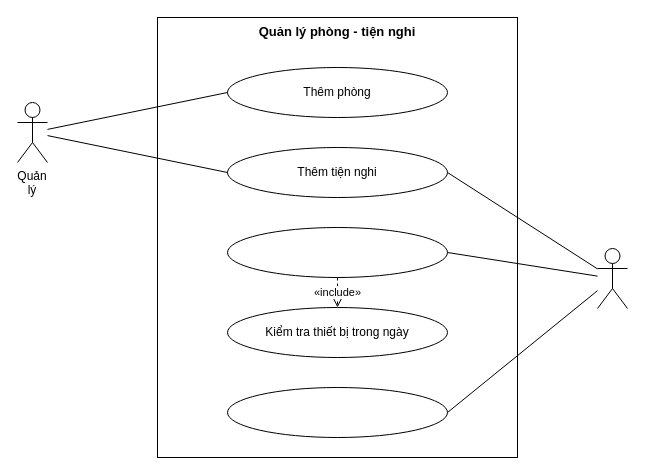
Some shapes in this 646 by 475 pixel diagram are drawn without their labels. Each missing label, with the centre of its shape:
"Lập phiếu lắp đặt / luân chuyển" belongs at [337,252].
"Nhân viên phục vụ phòng" belongs at [612,278].
"Xem lịch sử lắp đặt" belongs at [337,412].
